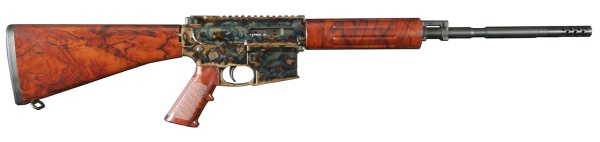ak47: (7, 15, 592, 129)
